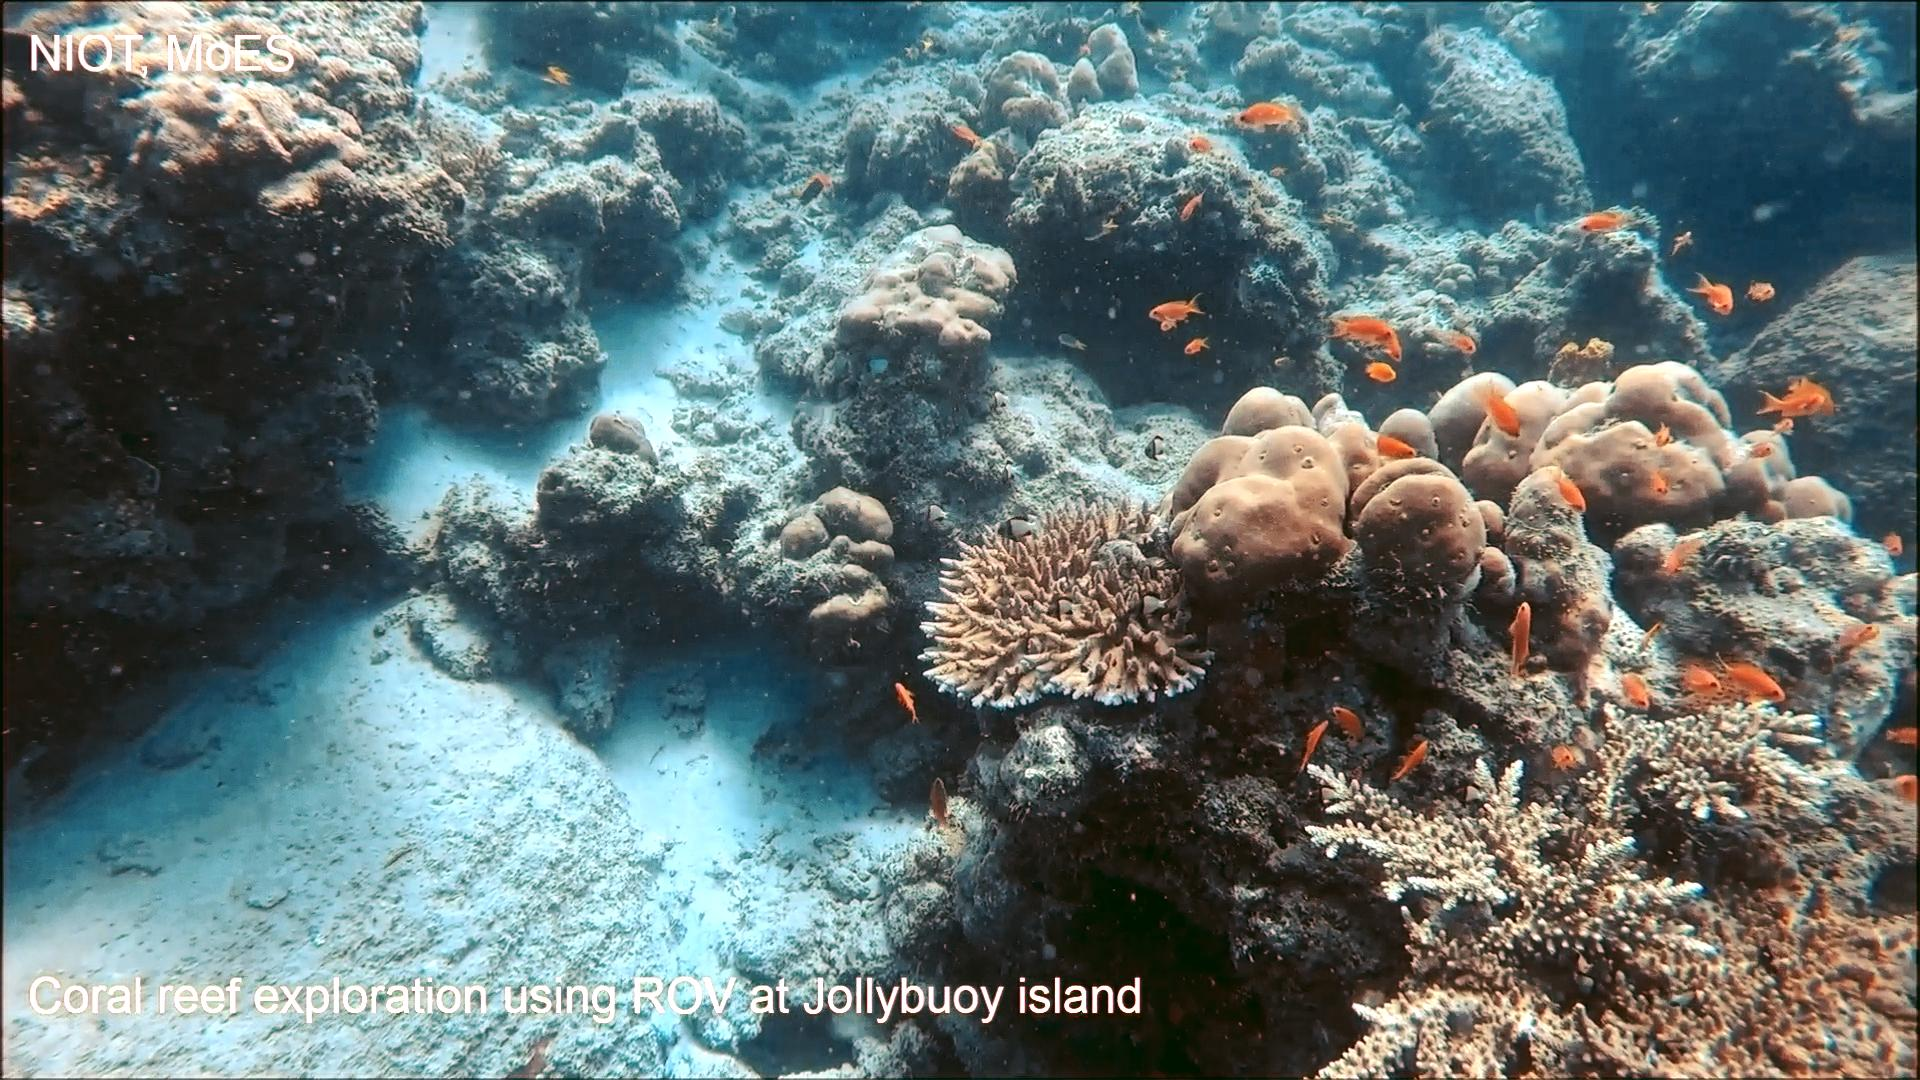Porites-Porites pukoensis: (1410, 352, 1862, 542), (1162, 378, 1493, 621)
